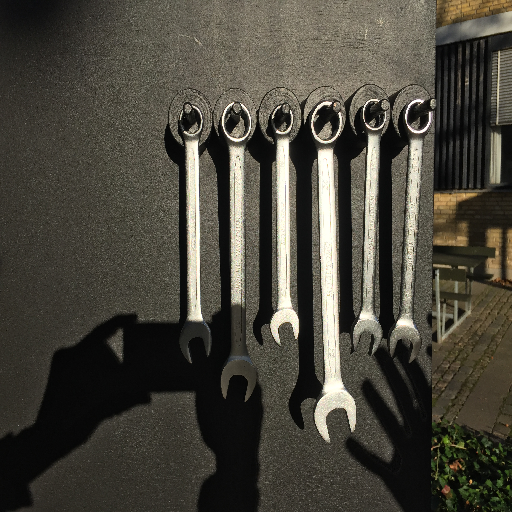bottom: (312, 390, 359, 445), (219, 355, 259, 404), (176, 320, 214, 365), (387, 318, 422, 364), (350, 311, 384, 354), (269, 307, 301, 346)
top: (308, 100, 345, 149), (220, 102, 253, 146), (401, 97, 434, 141), (359, 97, 389, 136), (268, 103, 296, 140), (177, 105, 206, 140)
